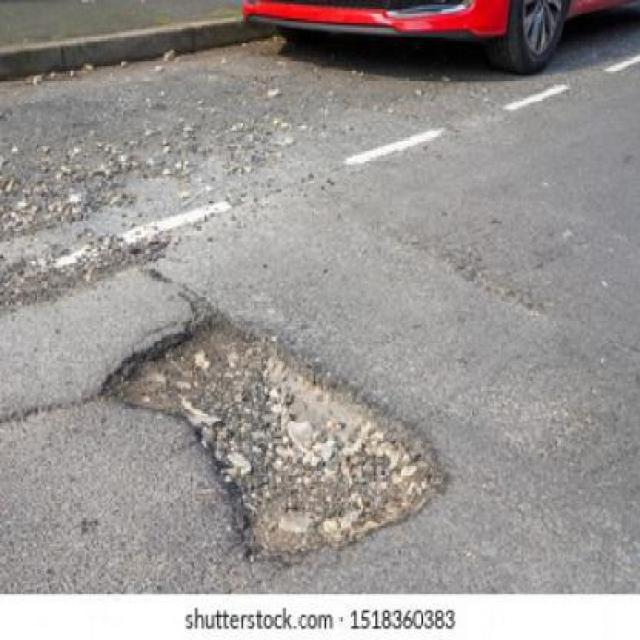Buraco: (97, 310, 451, 570)
